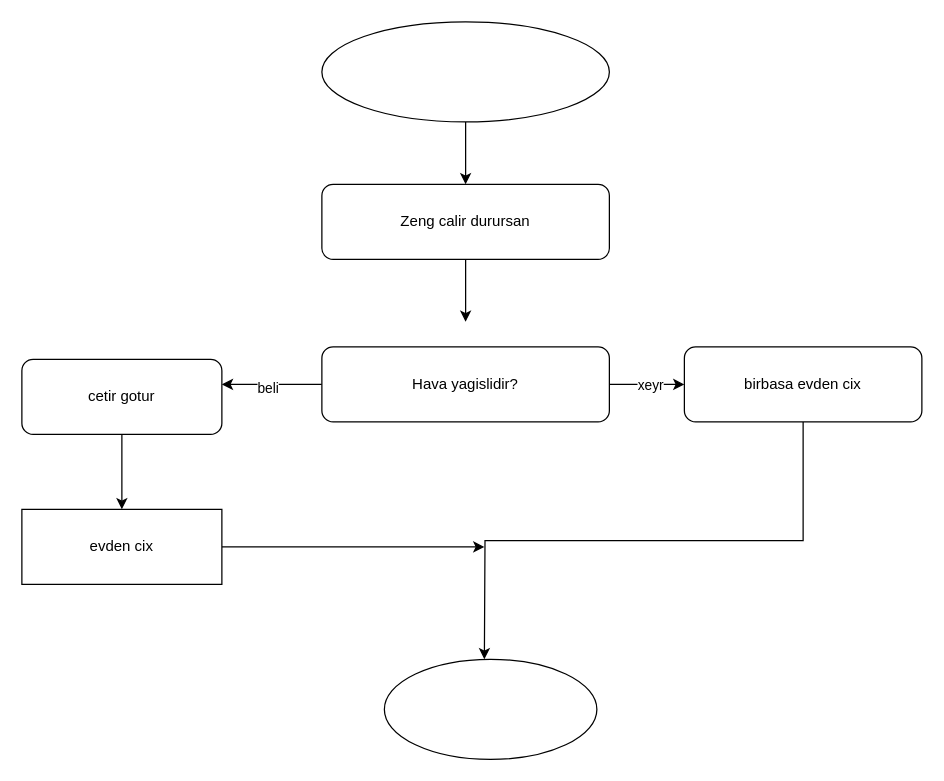
Some shapes in this 944 by 781 pixel diagram are drawn without their labels. Here are the shapes that lost their labels. From the top down, the centre of each, then its label:
point (465, 71): BASLA
point (490, 708): son
